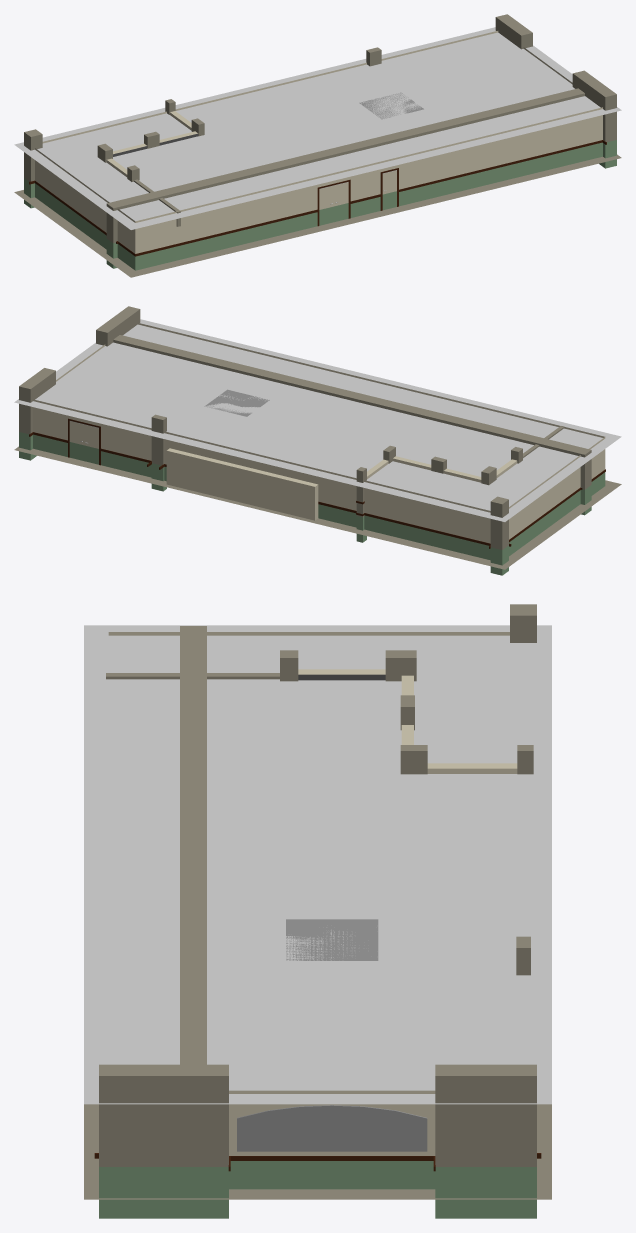
Rendered from Cafeteria.fbx.
3 renders of one model, top to bottom at view 1: azimuth 30°, elevation 25°; view 2: azimuth 150°, elevation 25°; view 3: azimuth 270°, elevation 25°, orthographic. The views are drawn at different scales.
Visible parts, largest first — view 1: Plane.002; view 2: Plane.002; view 3: Plane.002.
Boxes of the visible parts, x1=… form: Plane.002: x1=14, y1=14, x2=621, y2=277; Plane.002: x1=14, y1=306, x2=621, y2=575; Plane.002: x1=84, y1=604, x2=551, y2=1218.
Size of the model in its own units: 50.4 by 7.19 by 20.77.
